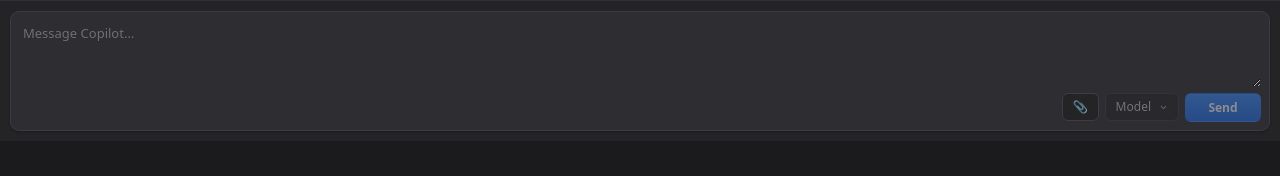
Test case: Composer attachments › drops a chip when its remove button is clicked
Click the button named "Attach files" at (1080, 107), box [1062,93,1099,121]
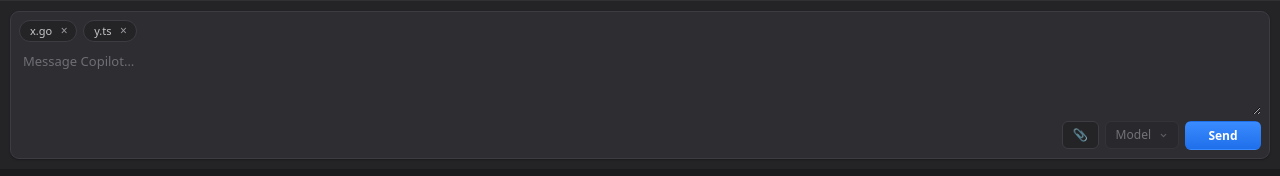
expect the text "x.go" is shown: met, box [30,23,52,39]
Click the button named "Remove x.go" at (64, 31), box [56,23,72,39]
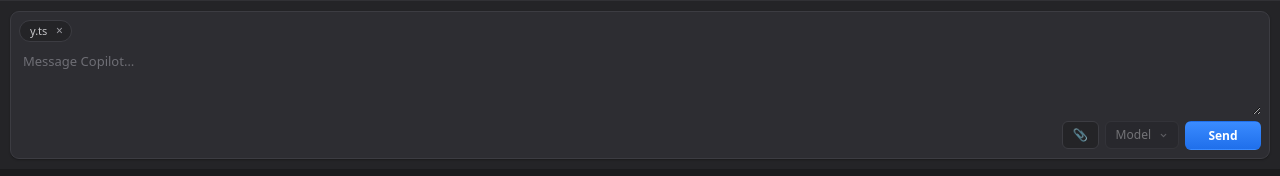
expect the text "y.ts" is shown: met, box [30,23,47,39]
expect the text "x.go" is gone: met
